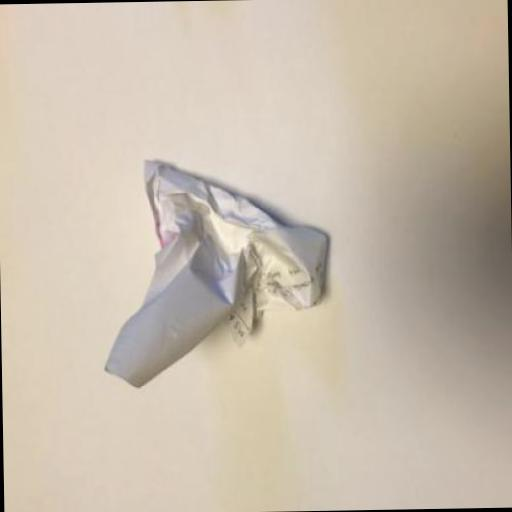paper: (101, 155, 330, 386)
